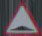Speed Breaker ahead: (4, 2, 38, 35)
